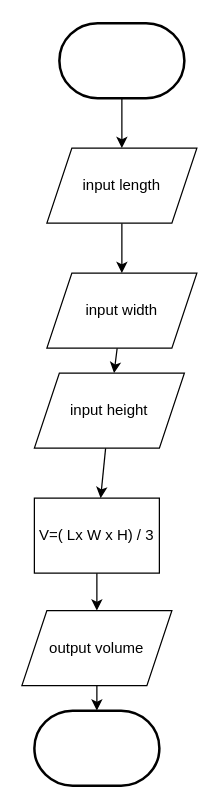
Image size: 219x808. Some labels were removed from this diagram. Each missing label, with the centre of its shape:
"Start" goes at (x=121, y=60).
"Stop" goes at (x=96, y=747).
